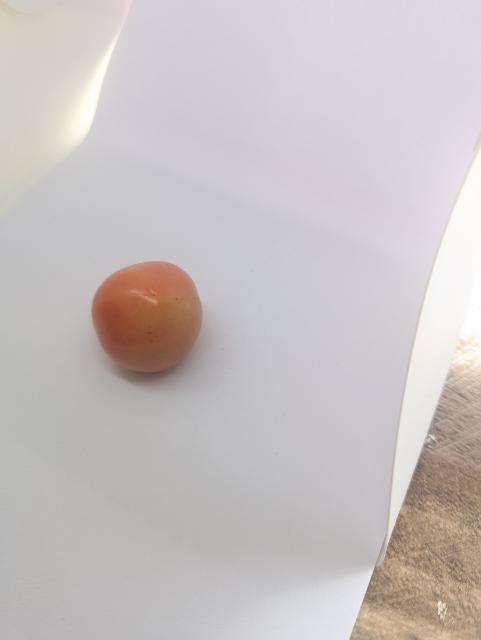turning: (88, 256, 217, 375)
